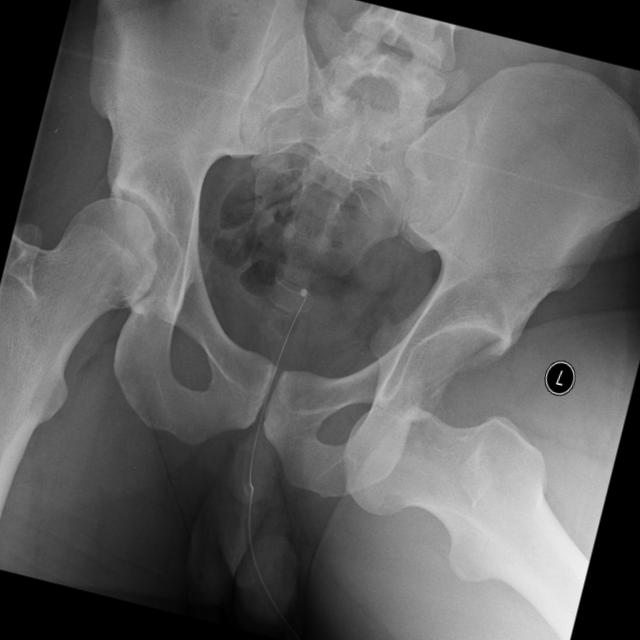left-dislocation: (344, 404, 589, 640)
normal-right: (0, 197, 158, 519)
